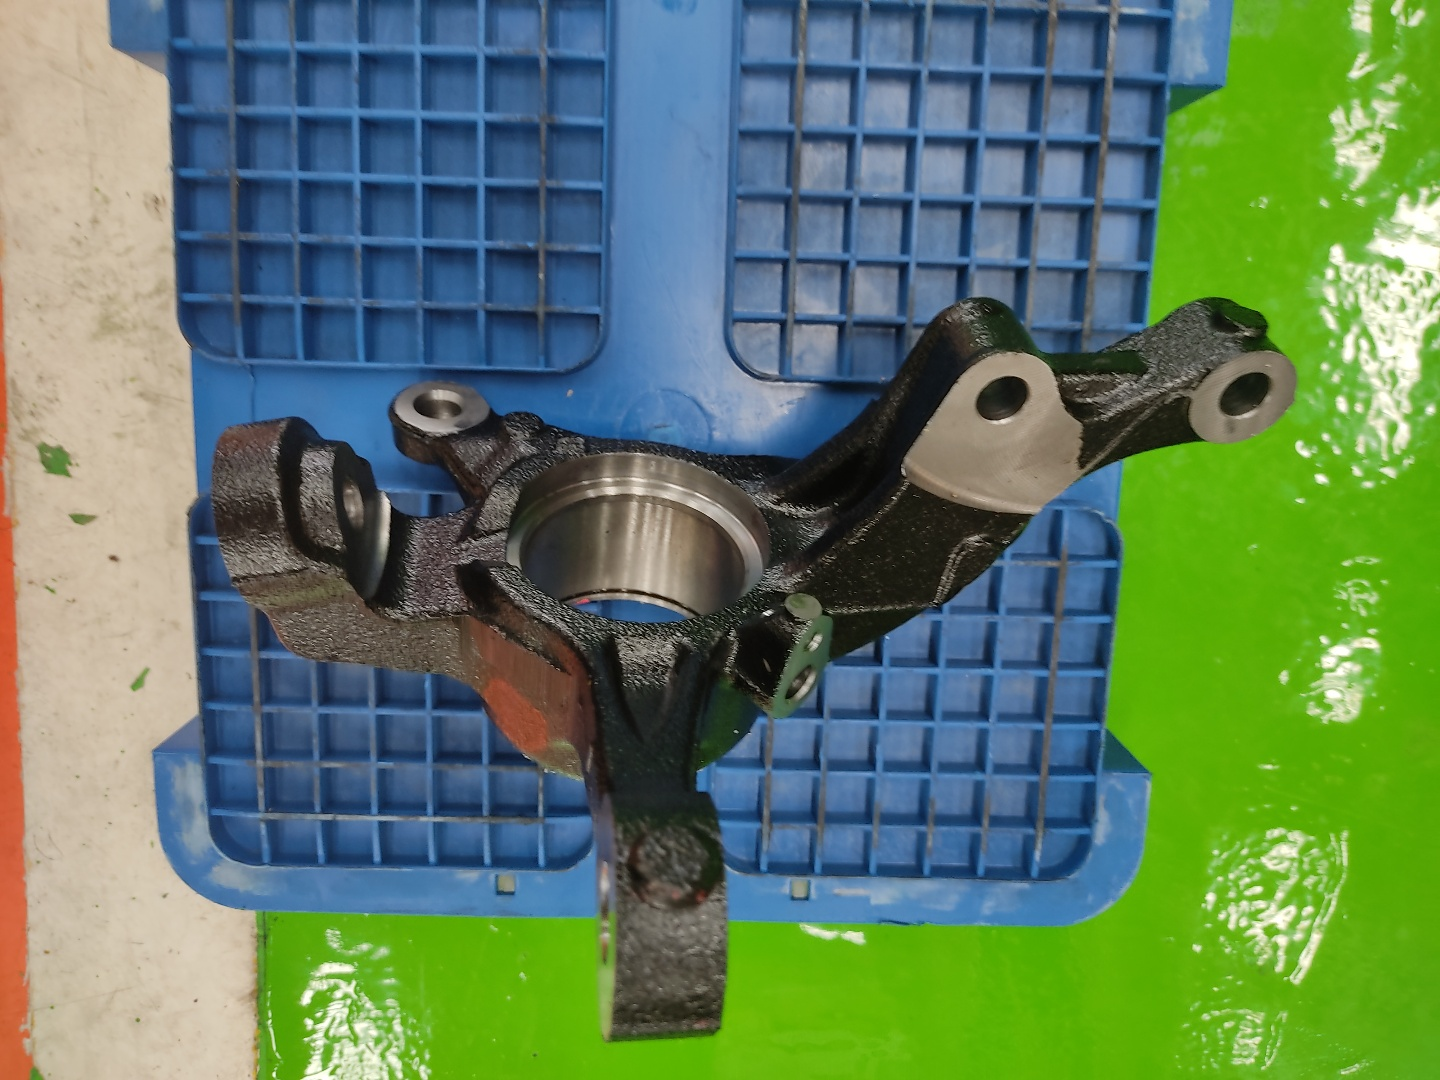abs-rh: (195, 271, 1306, 1055)
